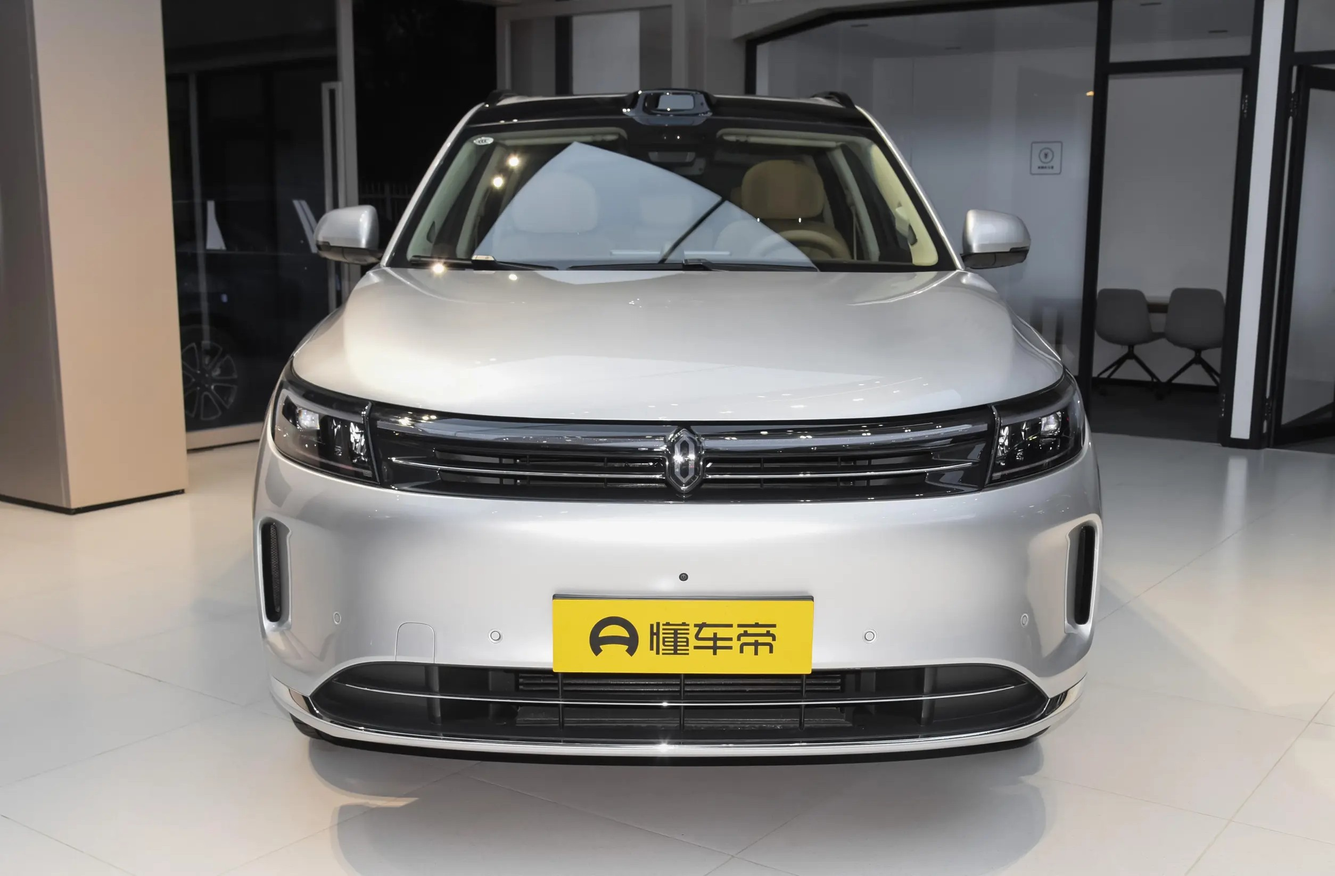AITO: (670, 429, 698, 489)
